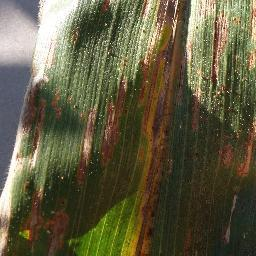Gray_Leaf_Spot: (133, 0, 192, 252), (0, 173, 66, 256), (209, 0, 256, 82), (90, 74, 125, 171), (18, 65, 50, 144), (28, 0, 60, 67), (75, 102, 100, 184), (173, 59, 206, 119), (0, 130, 39, 174), (236, 108, 256, 192), (220, 187, 236, 245), (212, 127, 230, 173), (47, 92, 72, 121), (63, 17, 81, 45), (187, 243, 211, 256), (225, 142, 237, 166), (91, 0, 115, 11)
